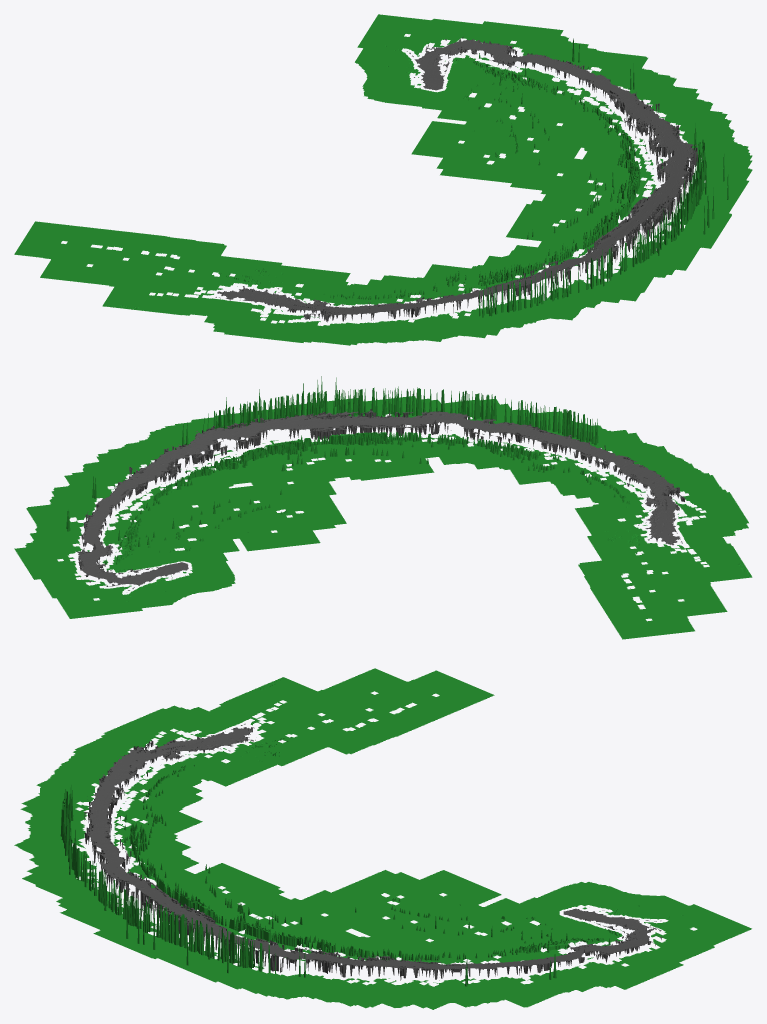
The model's file is track.obj.
3 renders of one model, top to bottom at view 1: azimuth 30°, elevation 25°; view 2: azimuth 150°, elevation 25°; view 3: azimuth 270°, elevation 25°, orthographic. The views are drawn at different scales.
Parts seen in each view (by area): view 1: grass, road; view 2: grass, road; view 3: grass, road.
Boxes of the visible parts, x1,y1,x2,y2 form: grass: (14, 14, 752, 345); road: (215, 37, 698, 322); grass: (14, 376, 752, 639); road: (76, 407, 685, 590); grass: (14, 668, 751, 1009); road: (84, 721, 661, 980).
Bounding box in the file's own units: 272 × 16.18 × 249.
